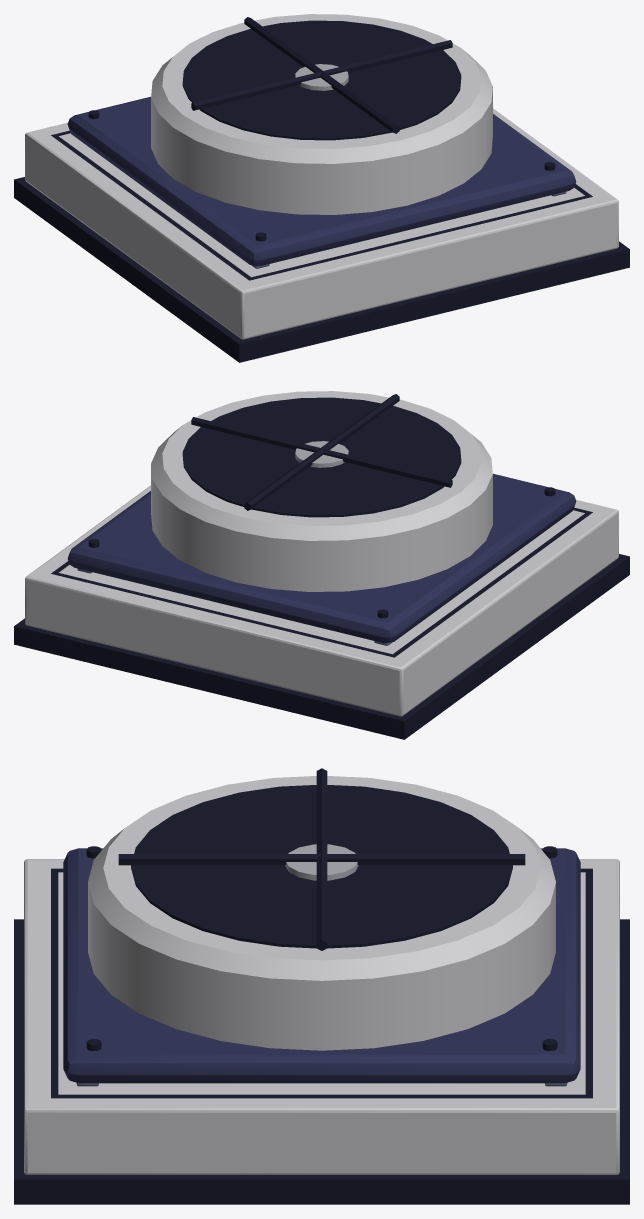
File: roof.square.fan.glb
3 views of the same model, one above another, from view 1: azimuth 30°, elevation 25°; view 2: azimuth 150°, elevation 25°; view 3: azimuth 270°, elevation 25° (orthographic). The views are drawn at different scales.
Parts seen in each view (by area): view 1: GEO-roof.square.fan; view 2: GEO-roof.square.fan; view 3: GEO-roof.square.fan.
Part boxes in pixels (x1,y1,x2,y2): GEO-roof.square.fan: (14,14,629,362); GEO-roof.square.fan: (14,391,629,739); GEO-roof.square.fan: (14,768,629,1204).
Size of the model in its own units: 1 by 0.395 by 1.
